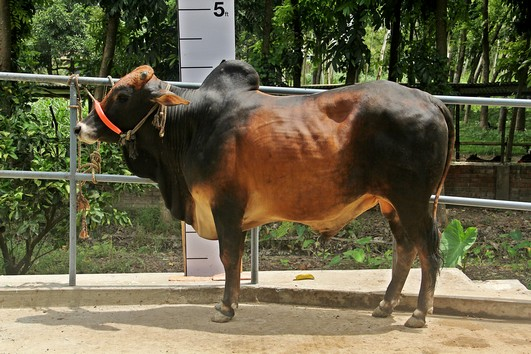cow: (67, 60, 461, 335)
